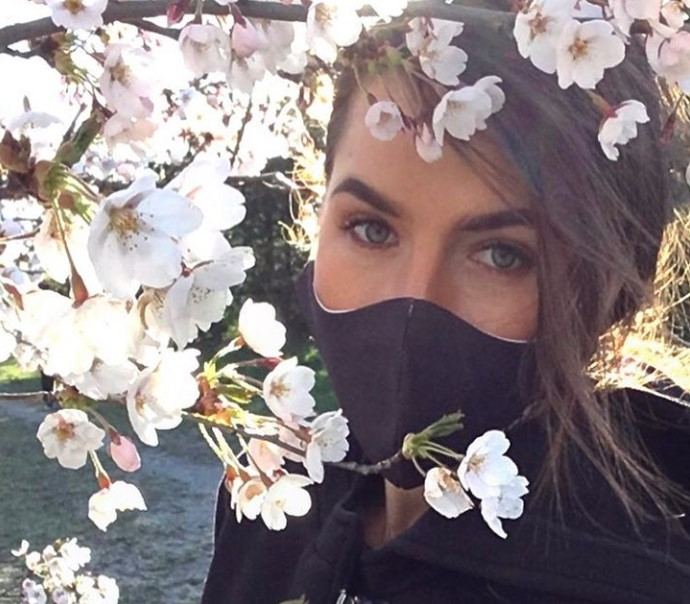face_with_mask: (303, 4, 676, 496)
